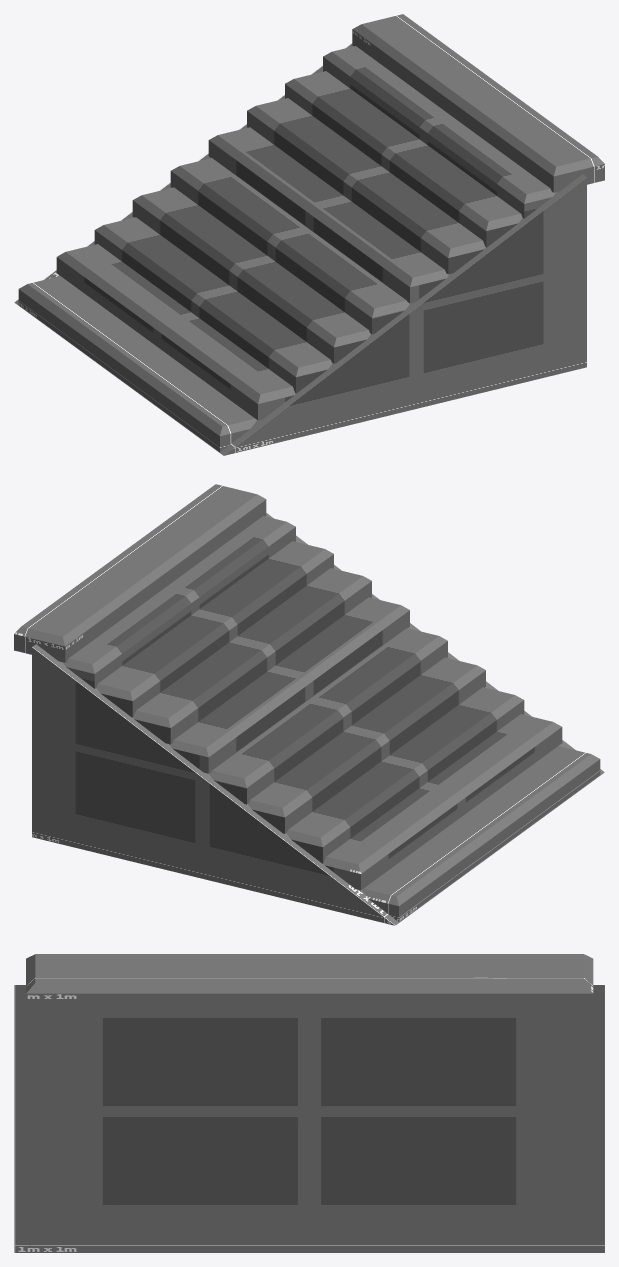
File: 1x1_Stairs_Tile.FBX
The picture shows the model from 3 angles, top to bottom: view 1: azimuth 30°, elevation 25°; view 2: azimuth 150°, elevation 25°; view 3: azimuth 270°, elevation 25°; orthographic projection. The views are drawn at different scales.
Visible parts, largest first — view 1: Box002; view 2: Box002; view 3: Box002.
Part boxes in pixels (x1=…): Box002: x1=14, y1=14, x2=604, y2=455; Box002: x1=14, y1=484, x2=604, y2=925; Box002: x1=14, y1=954, x2=604, y2=1252.
Bounding box in the file's own units: 106 × 52.77 × 100.
